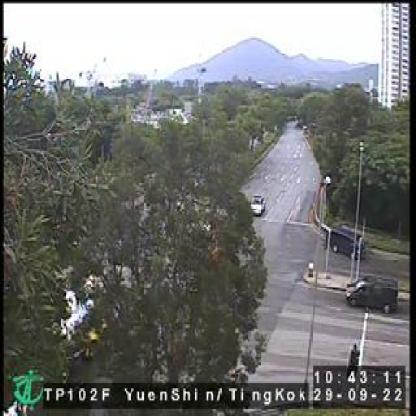Car: (346, 274, 398, 314), (322, 223, 363, 256), (250, 194, 264, 215)
